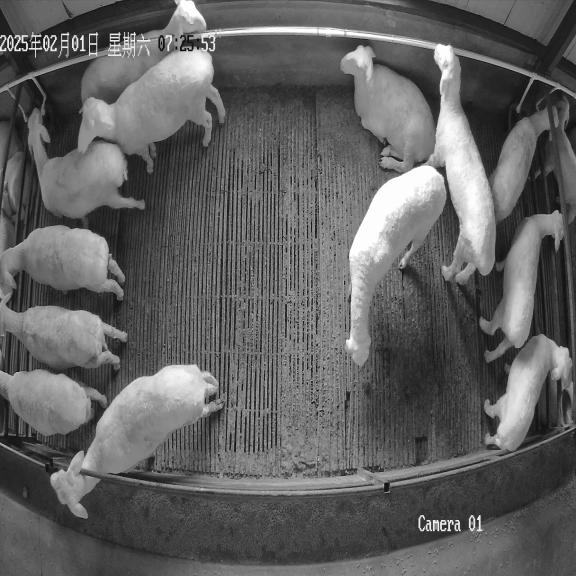drinking: (27, 108, 145, 224), (489, 106, 559, 222)
lying: (340, 45, 435, 173)
stand: (50, 365, 224, 518), (345, 165, 446, 366), (78, 51, 225, 173), (427, 44, 496, 282), (81, 0, 207, 103), (479, 210, 563, 362), (484, 334, 573, 451), (1, 225, 125, 300), (0, 300, 127, 369), (0, 369, 107, 436)
